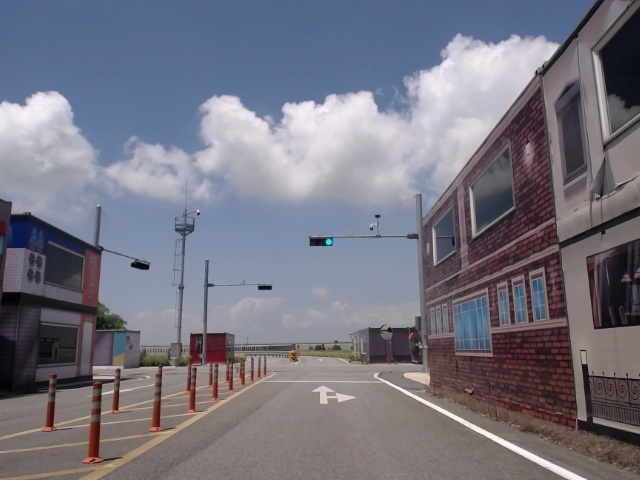green_3: (309, 239, 330, 246)
